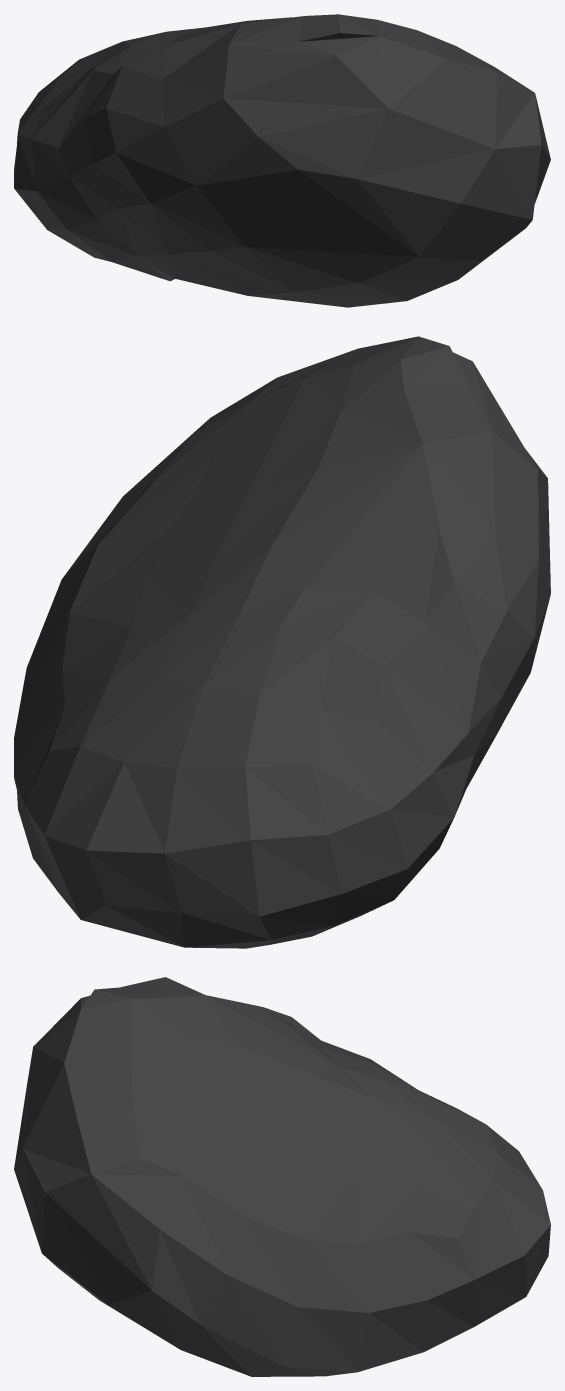
The model's file is RHL_patella.glb.
3 renders of one model, top to bottom at view 1: azimuth 30°, elevation 25°; view 2: azimuth 150°, elevation 25°; view 3: azimuth 270°, elevation 25°, orthographic. The views are drawn at different scales.
Visible parts, largest first — view 1: RHL_patella; view 2: RHL_patella; view 3: RHL_patella.
Part boxes in pixels (<box>): RHL_patella: <box>14,14,550,307</box>; RHL_patella: <box>14,336,550,948</box>; RHL_patella: <box>14,977,550,1376</box>.
Size of the model in its own units: 6.67 by 5.7 by 8.43.
Materials: 1 (1 with a texture image).
